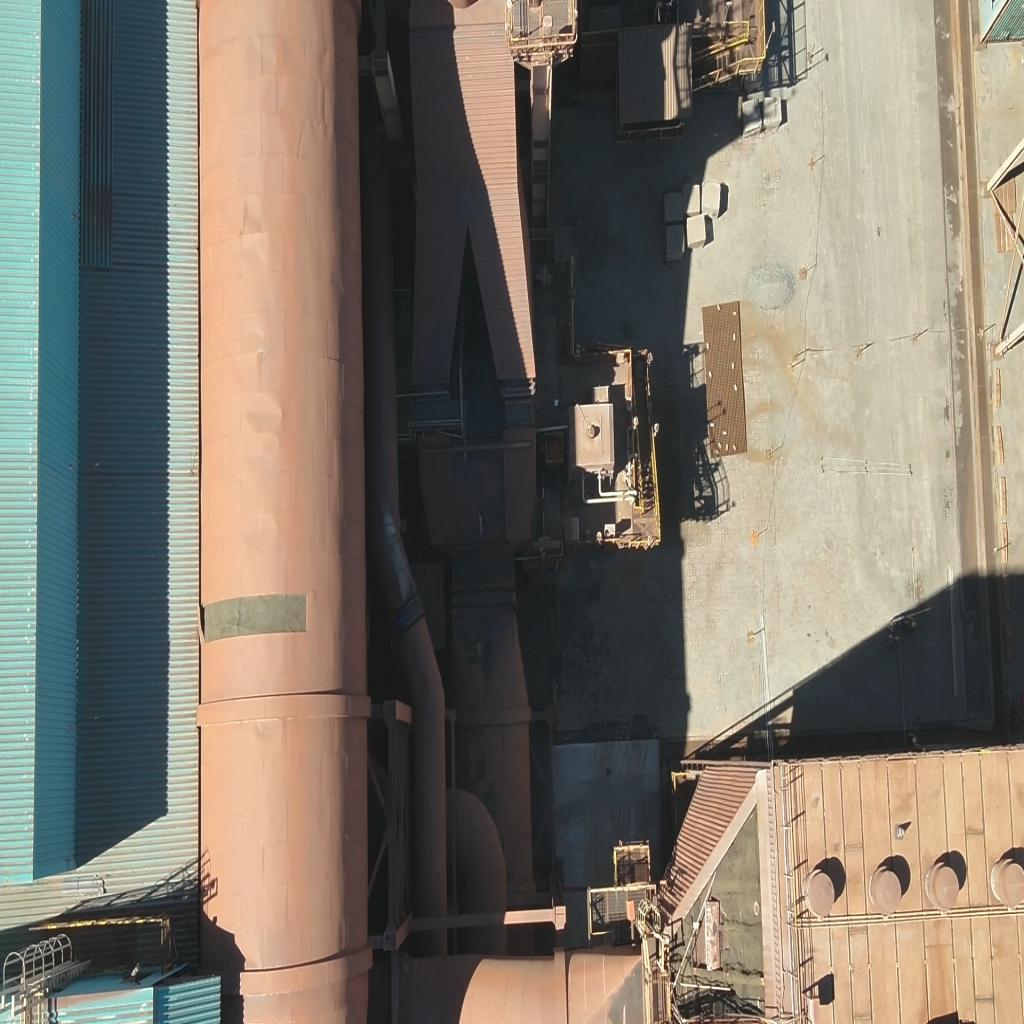Failures: (681, 814, 763, 1021), (201, 597, 313, 637)
